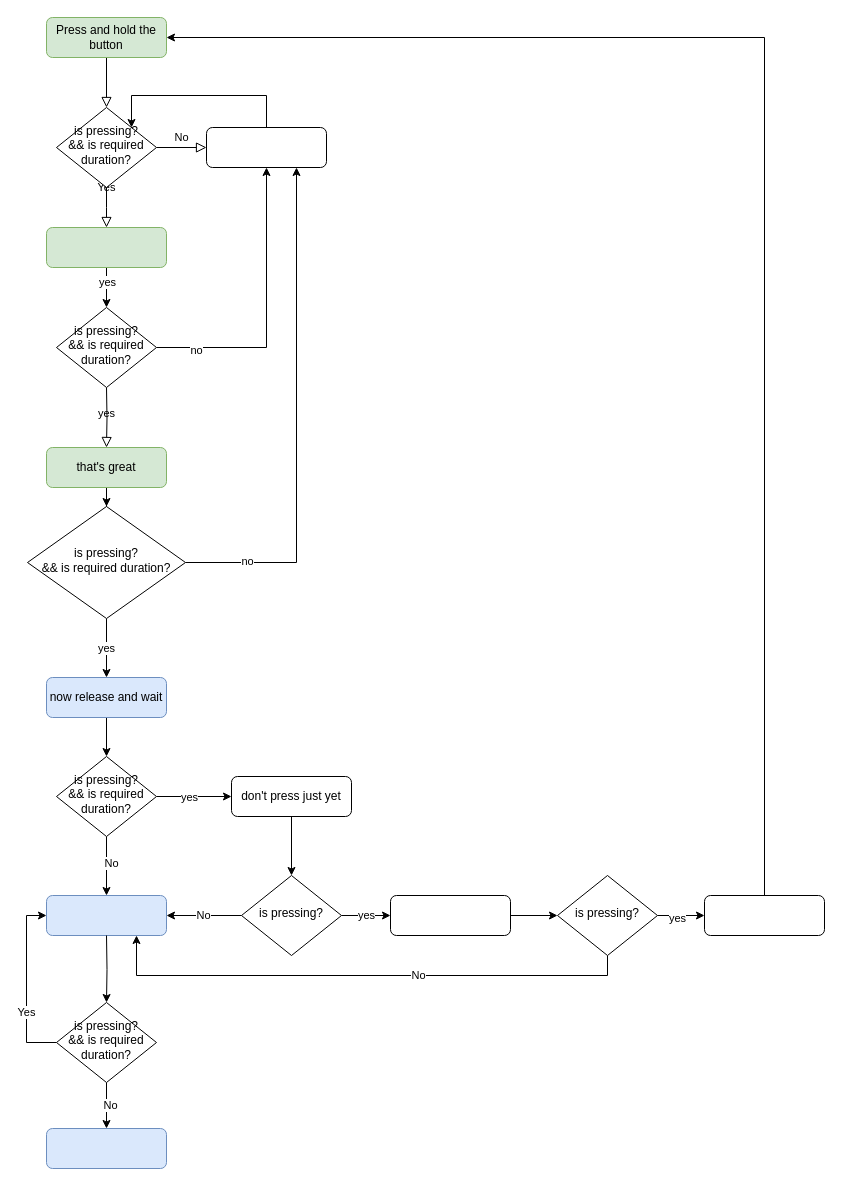
This 842x1186 diagram has some shape labels left out. Each missing label, with the centre of its shape:
"Keeping going" goes at (106,247).
"lets start again" goes at (764,915).
"press hold and breathe in" goes at (106,1148).
"release the button" goes at (450,915).
"try pressing a bit longer" goes at (266,147).
"wait a little longer" goes at (106,915).
